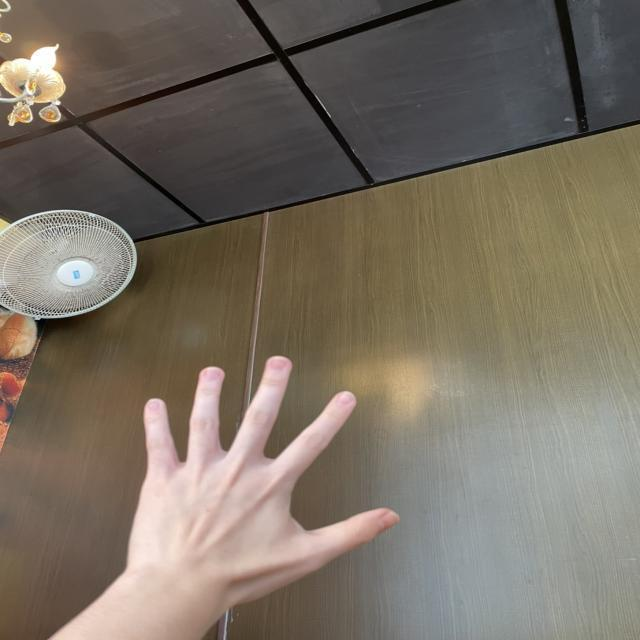hand: (99, 342, 419, 622)
